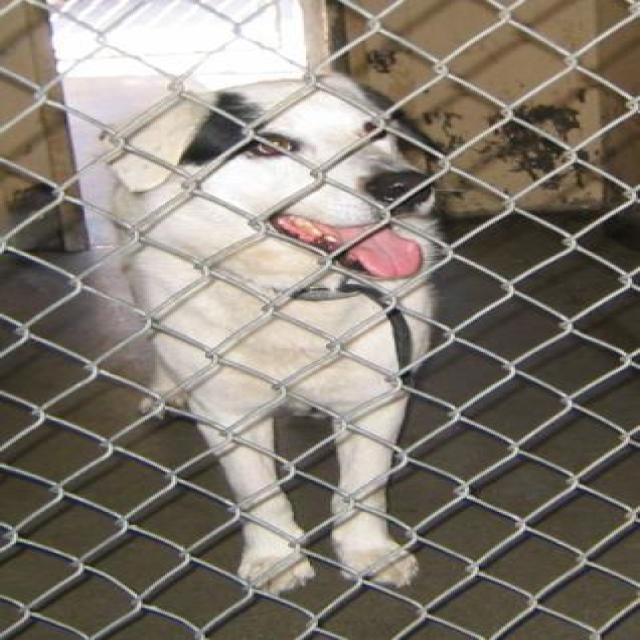Dogs: (60, 70, 453, 596)
